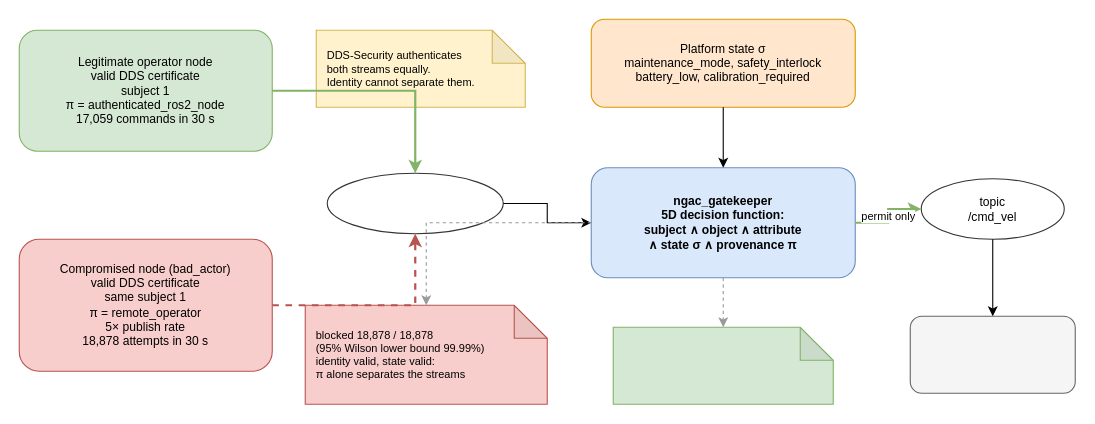
This 1095x424 diagram has some shape labels left out. The centre of each missing label's shape, as x and y in pixels:
"forwarded 17,059 / 17,059 false positives 0 (95% upper bound 0.02%)" belongs at point 722,365.
"Robot actuator 45 kg platform" belongs at point 992,354.
"topic /cmd_untrusted" belongs at point 414,203.
